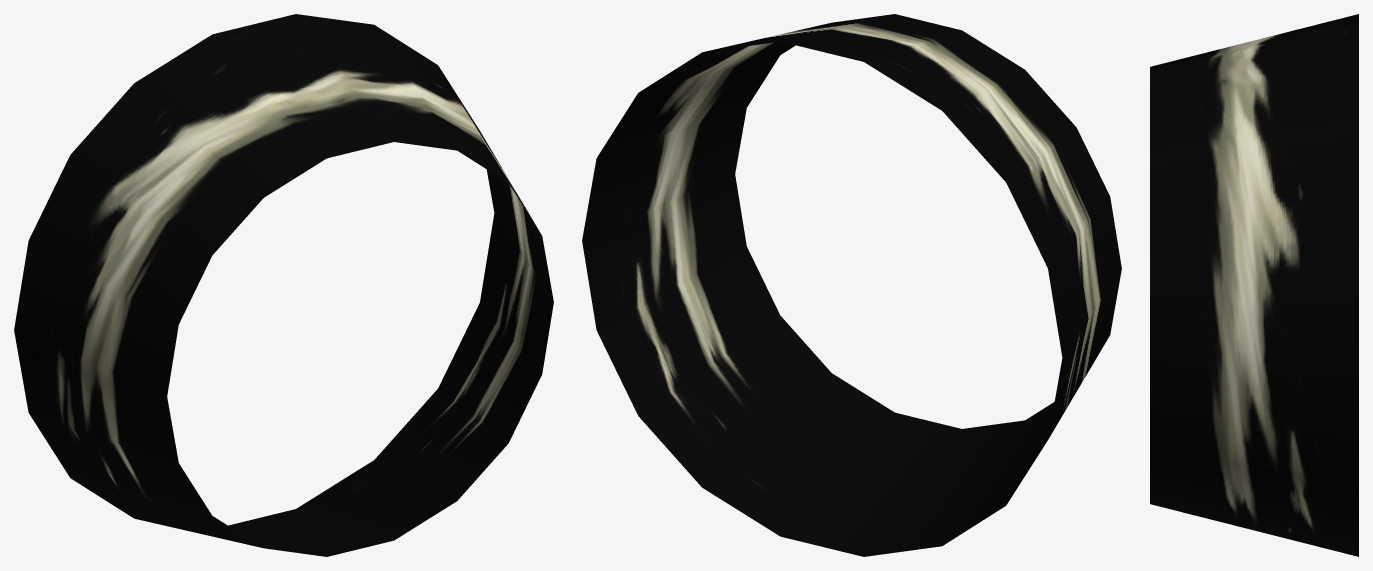
File: yuanzhu03.FBX
The picture shows the model from 3 angles, left to right: view 1: azimuth 30°, elevation 25°; view 2: azimuth 150°, elevation 25°; view 3: azimuth 270°, elevation 25°; orthographic projection.
Visible parts, largest first — view 1: Cylinder001; view 2: Cylinder001; view 3: Cylinder001.
Boxes of the visible parts, x1,y1,x2,y2 form: Cylinder001: [14, 14, 553, 556]; Cylinder001: [582, 14, 1121, 556]; Cylinder001: [1150, 14, 1358, 556].
Bounding box in the file's own units: 92.42 × 91.01 × 35.43.
